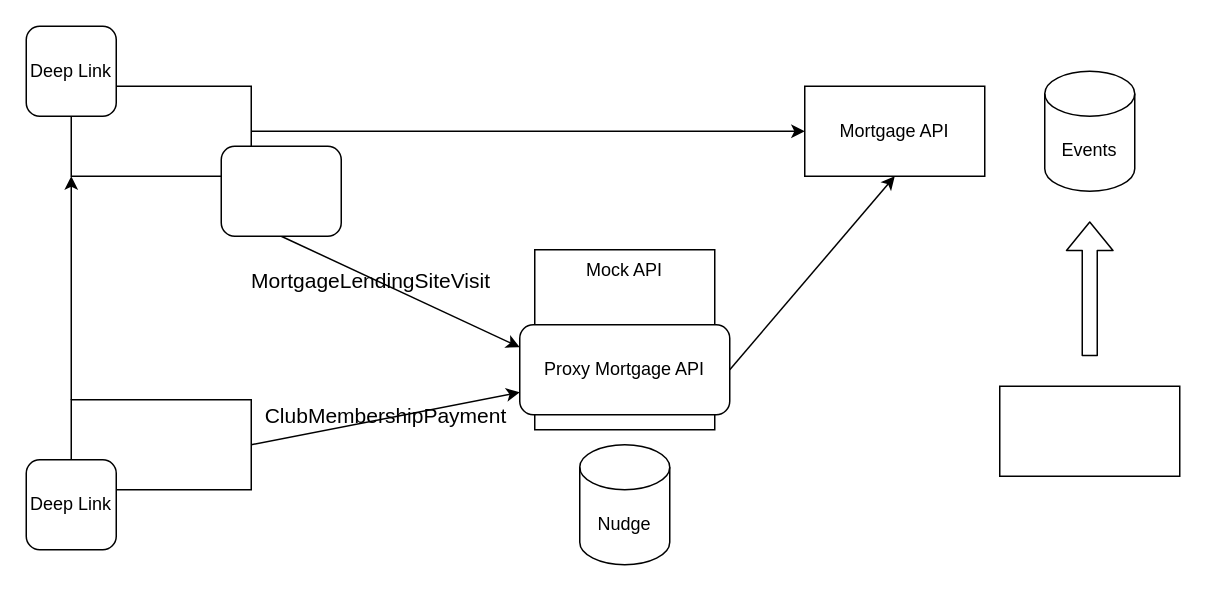
This 1206x591 diagram has some shape labels left out. The centre of each missing label's shape, as x and y in pixels:
"Demo UI" belongs at [160,444].
"Mortgage UI" belongs at [160,130].
"Platfrom Manager" belongs at [1089,430].
"setupProxy" belongs at [280,190].
